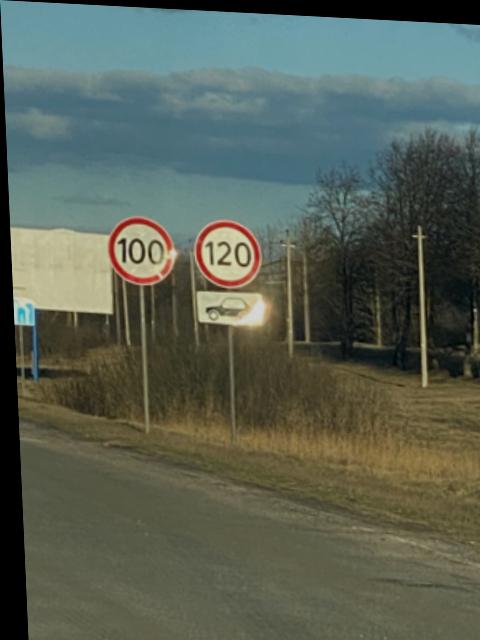limit100: (100, 207, 177, 288)
limit120: (190, 214, 263, 287)
